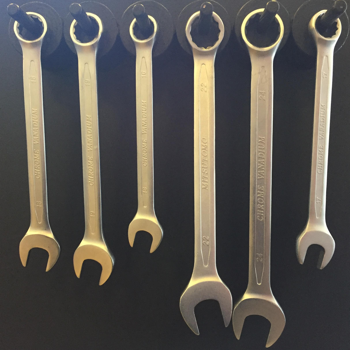bottom: (177, 273, 232, 338), (232, 294, 288, 349), (70, 239, 116, 289), (292, 222, 337, 271), (17, 227, 62, 274), (124, 213, 164, 256)
top: (238, 4, 285, 56), (183, 8, 227, 55), (67, 10, 105, 50), (11, 10, 49, 49), (307, 7, 343, 47), (127, 12, 160, 47)
